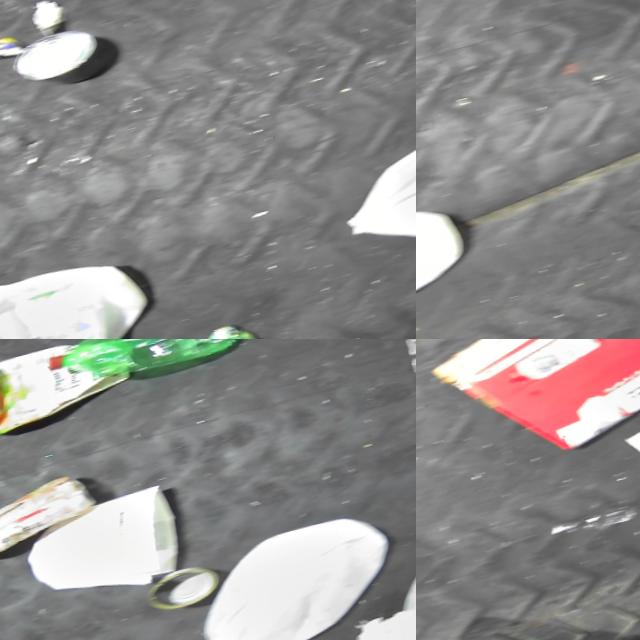can: (5, 18, 123, 101), (136, 562, 222, 619), (188, 318, 263, 339)
milk_jug: (182, 508, 408, 640), (0, 240, 161, 339), (326, 107, 416, 265), (416, 184, 474, 338)
